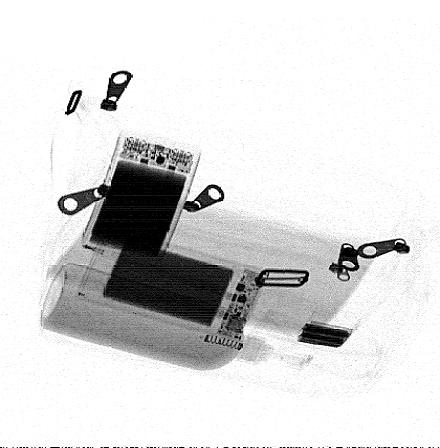Powerbank: (76, 225, 269, 342), (80, 131, 202, 260)
